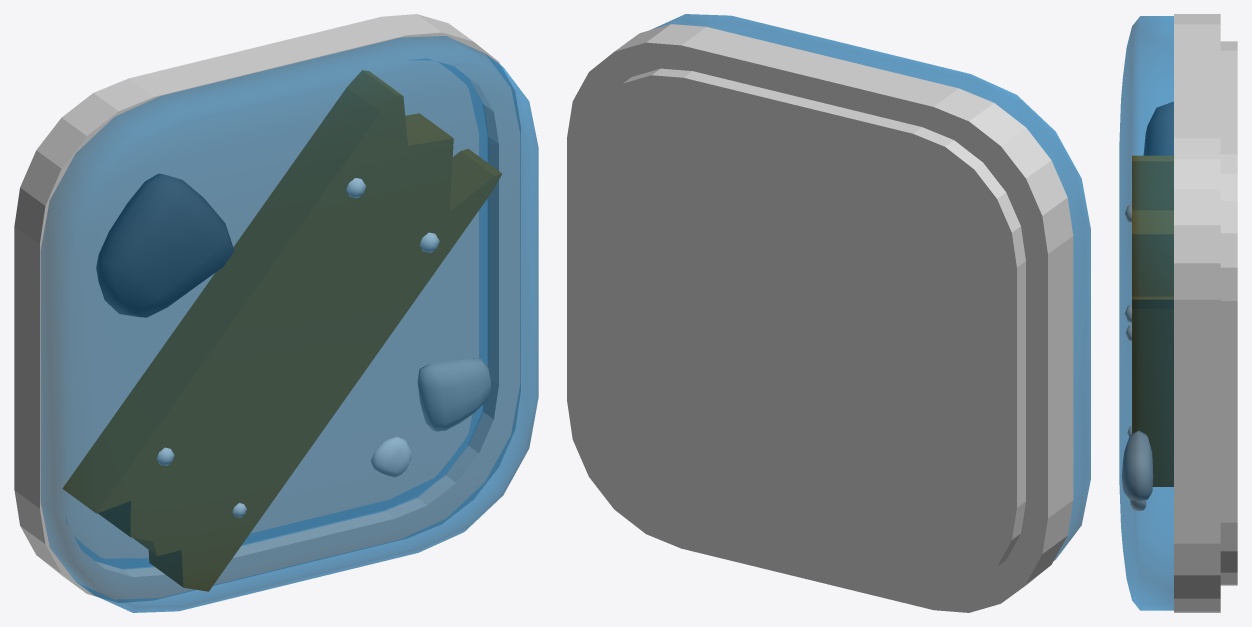
The model's file is MaterialsMenuButton.fbx.
3 renders of one model, left to right at view 1: azimuth 30°, elevation 25°; view 2: azimuth 150°, elevation 25°; view 3: azimuth 270°, elevation 25°, orthographic. The views are drawn at different scales.
Visible parts, largest first — view 1: Cube.004, Cube.003, Cube.002, Cube.001, Cube.008, Cube.018, Cube.017; view 2: Cube.002, Cube.001, Cube.004; view 3: Cube.004, Cube.001, Cube.003, Cube.002, Cube.018, Cube.008.
Part boxes in pixels (<box>): Cube.004: <box>41,36,538,612</box>; Cube.003: <box>62,70,501,591</box>; Cube.002: <box>61,59,487,568</box>; Cube.001: <box>14,14,520,602</box>; Cube.008: <box>96,173,234,317</box>; Cube.018: <box>417,358,490,431</box>; Cube.017: <box>371,436,411,477</box>; Cube.002: <box>580,68,1025,593</box>; Cube.001: <box>567,24,1073,612</box>; Cube.004: <box>651,14,1090,560</box>; Cube.004: <box>1119,16,1173,610</box>; Cube.001: <box>1174,14,1220,612</box>; Cube.003: <box>1125,155,1173,486</box>; Cube.002: <box>1220,41,1237,585</box>; Cube.018: <box>1121,430,1153,501</box>; Cube.008: <box>1143,102,1173,155</box>.
Bounding box in the file's own units: 2.64 × 0.6096 × 2.64.
